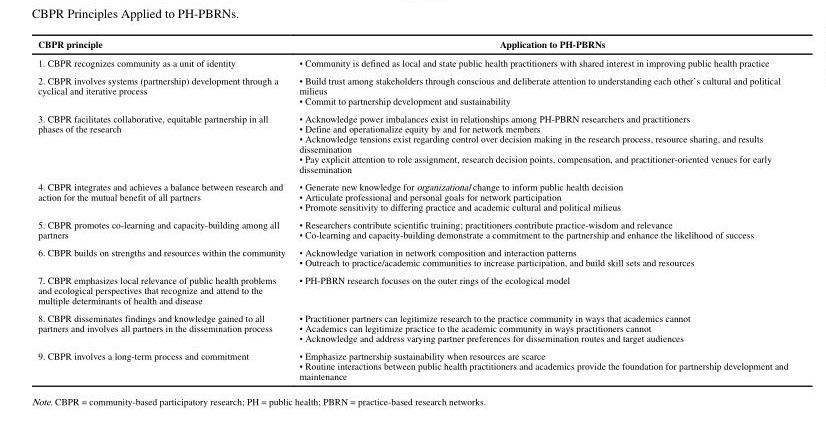table: (38, 37, 788, 381)
table column: (292, 37, 788, 381), (38, 37, 292, 381)
table column header: (38, 37, 788, 53)
table row: (38, 108, 788, 177), (38, 270, 788, 308), (38, 308, 788, 346), (38, 71, 788, 108), (38, 177, 788, 214), (38, 346, 788, 381), (38, 214, 788, 242), (38, 242, 788, 270), (38, 53, 788, 71), (38, 37, 788, 53)
